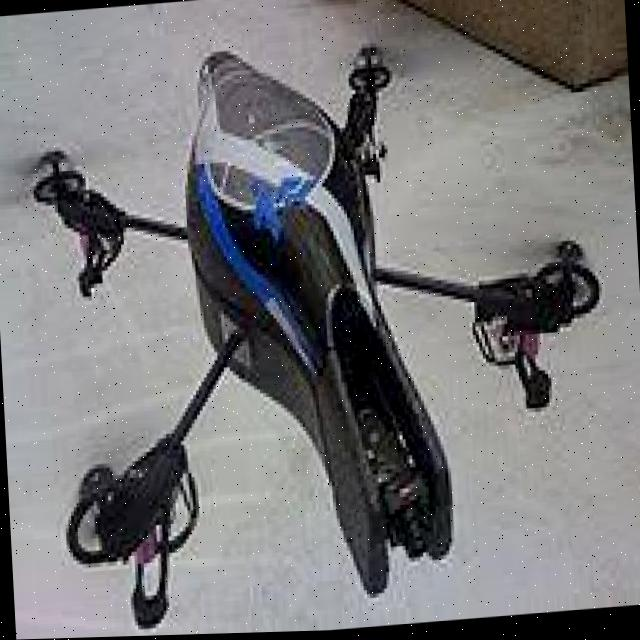drone: (6, 4, 623, 640)
